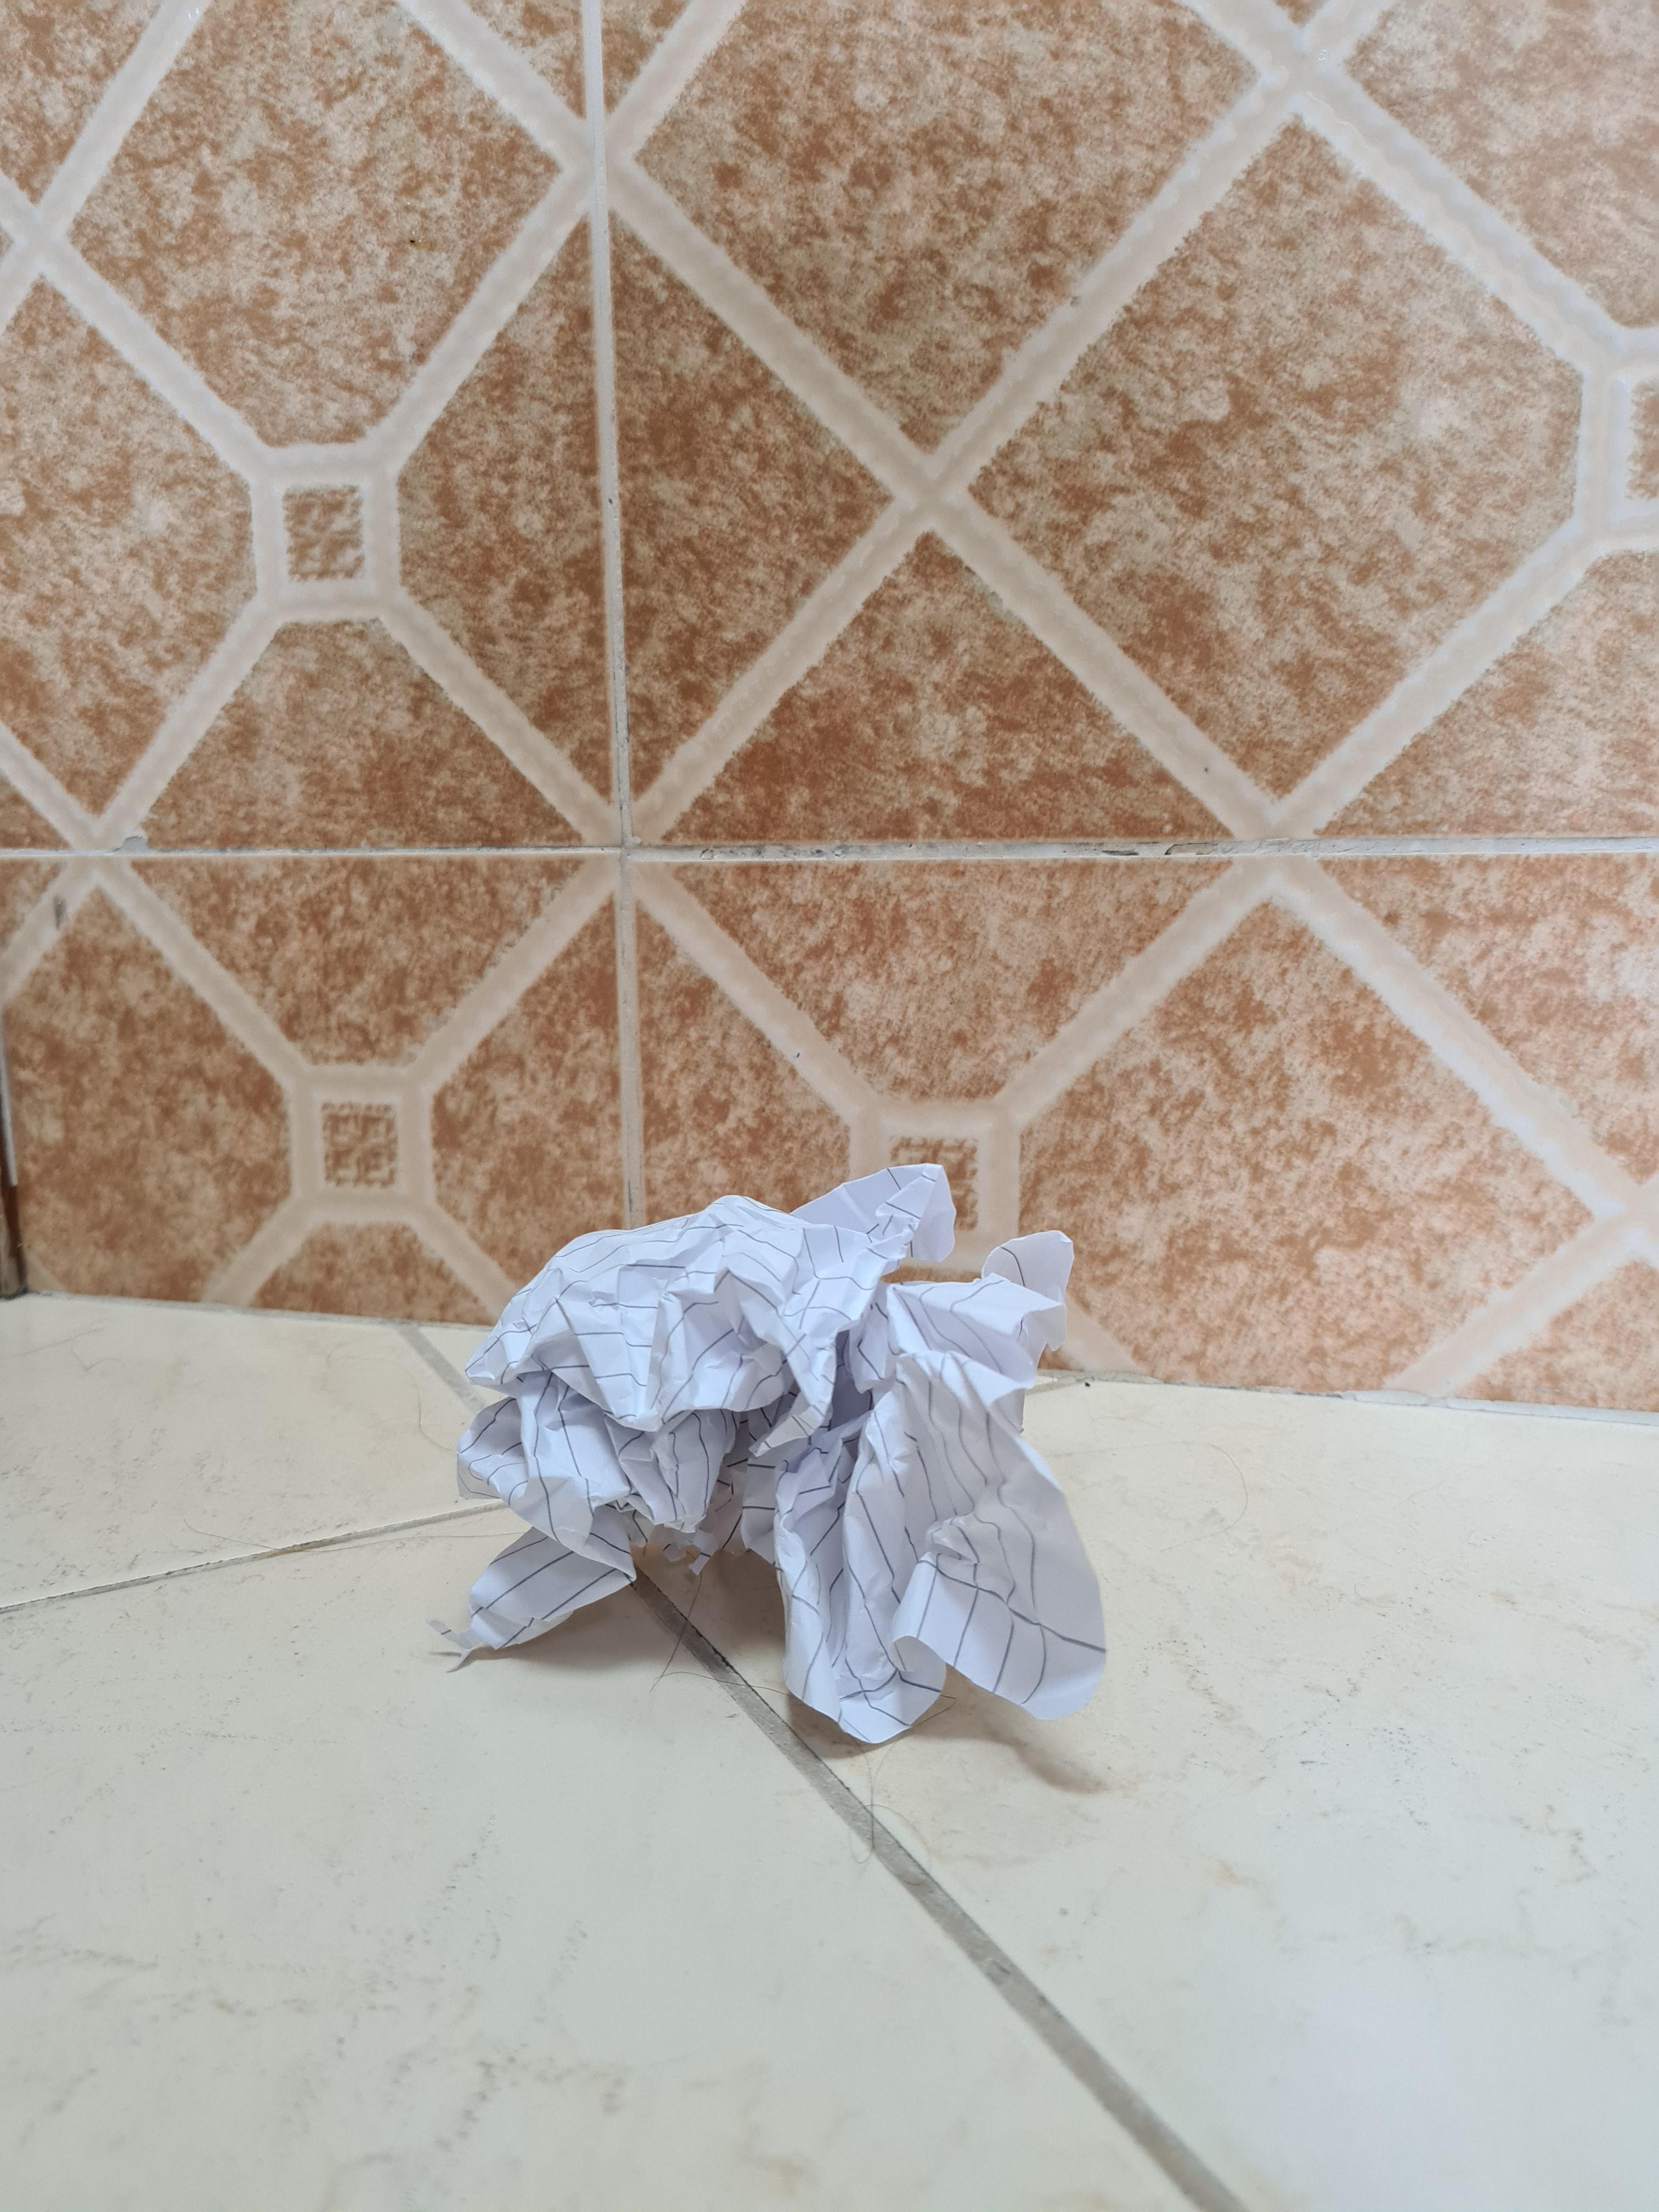Paper: (435, 1148, 1110, 1730)
